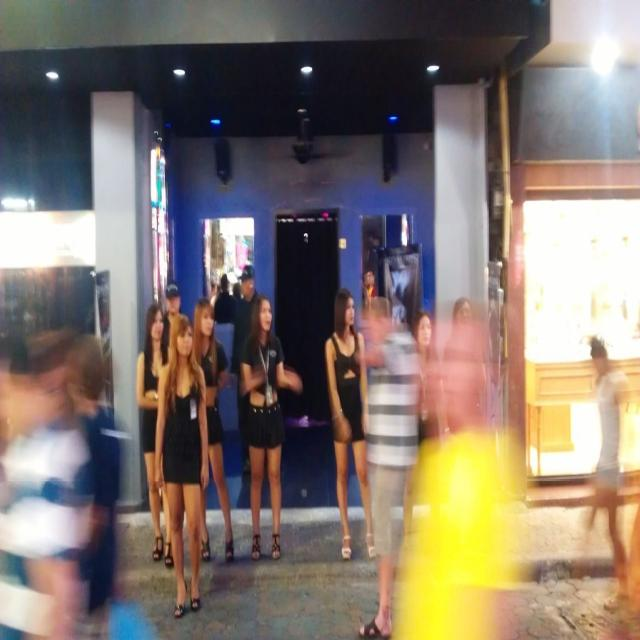body: (367, 231, 637, 637), (0, 315, 158, 640), (151, 310, 211, 619), (237, 292, 304, 562), (321, 284, 381, 562), (181, 295, 237, 567), (135, 302, 176, 570), (229, 263, 260, 479), (207, 271, 245, 329), (158, 282, 182, 365)
